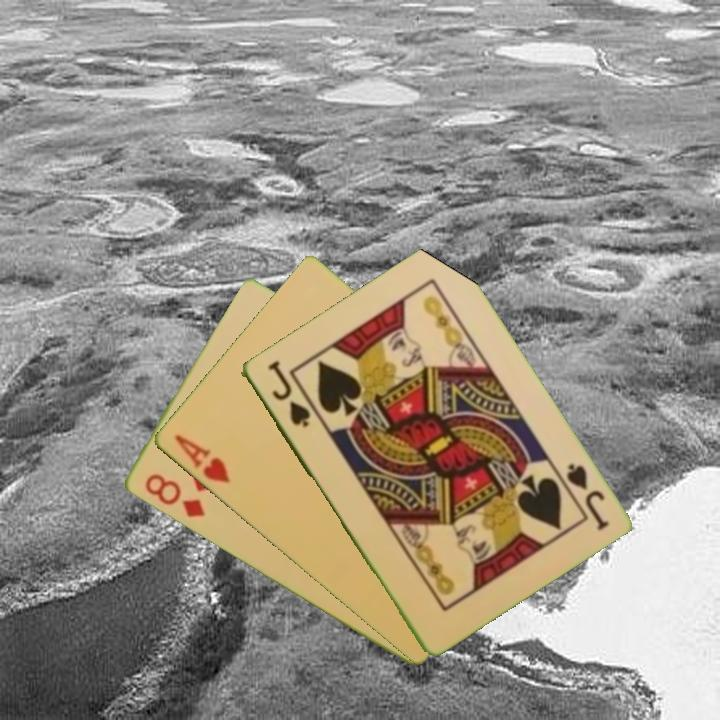8d: (140, 470, 208, 521)
Ah: (170, 431, 232, 487)
Js: (562, 460, 611, 534), (264, 358, 313, 431)
